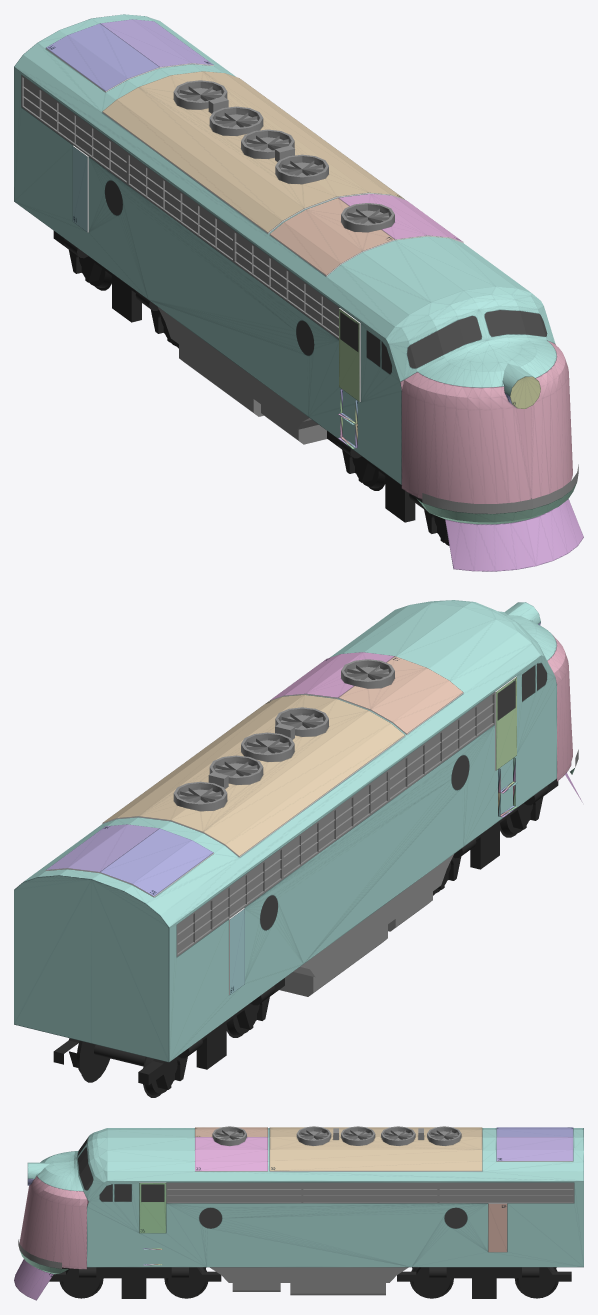
3 renders of one model, top to bottom at view 1: azimuth 30°, elevation 25°; view 2: azimuth 150°, elevation 25°; view 3: azimuth 270°, elevation 25°, orthographic. The views are drawn at different scales.
Visible parts, largest first — view 1: instance_5, instance_1, instance_4, instance_2, instance_3, instance_9, instance_7, instance_6, instance_20, instance_17, instance_10, instance_8 (+2 smaller); view 2: instance_5, instance_1, instance_2, instance_4, instance_3, instance_17, instance_6, instance_10, instance_8, instance_18, instance_19, instance_15 (+3 smaller); view 3: instance_1, instance_5, instance_2, instance_3, instance_4, instance_19, instance_18, instance_20, instance_17, instance_15 (×2), instance_14 (×2), instance_7 (+4 smaller).
Boxes of the visible parts, x1,y1,x2,y2 form: instance_5: (14,18,535,571); instance_1: (92,14,583,565); instance_4: (21,75,127,184); instance_2: (127,153,233,262); instance_3: (233,230,339,339); instance_9: (209,106,263,135); instance_7: (275,154,328,184); instance_6: (341,203,394,232); instance_20: (327,431,395,515); instance_17: (53,231,121,314); instance_10: (173,80,227,109); instance_8: (241,129,294,158); instance_5: (91,602,582,1062); instance_1: (14,600,525,1043); instance_2: (282,769,388,879); instance_4: (176,847,282,956); instance_3: (389,692,494,801); instance_17: (138,1028,216,1089); instance_6: (341,659,394,688); instance_10: (173,781,227,811); instance_8: (241,732,294,761); instance_18: (217,978,284,1062); instance_19: (490,779,558,861); instance_15: (76,1041,126,1082); instance_1: (14,1130,583,1300); instance_5: (14,1127,583,1279); instance_2: (302,1182,438,1203); instance_3: (166,1182,302,1203); instance_4: (438,1182,574,1203); instance_19: (484,1267,571,1298); instance_18: (134,1267,221,1298); instance_20: (397,1267,484,1298); instance_17: (49,1267,133,1298); instance_15 (×2): (410,1267,558,1298); instance_14 (×2): (59,1267,207,1298); instance_7: (296,1126,331,1145).
Size of the model in its own units: 3.2 by 4.55 by 14.87.
32 materials, 28 textured.
